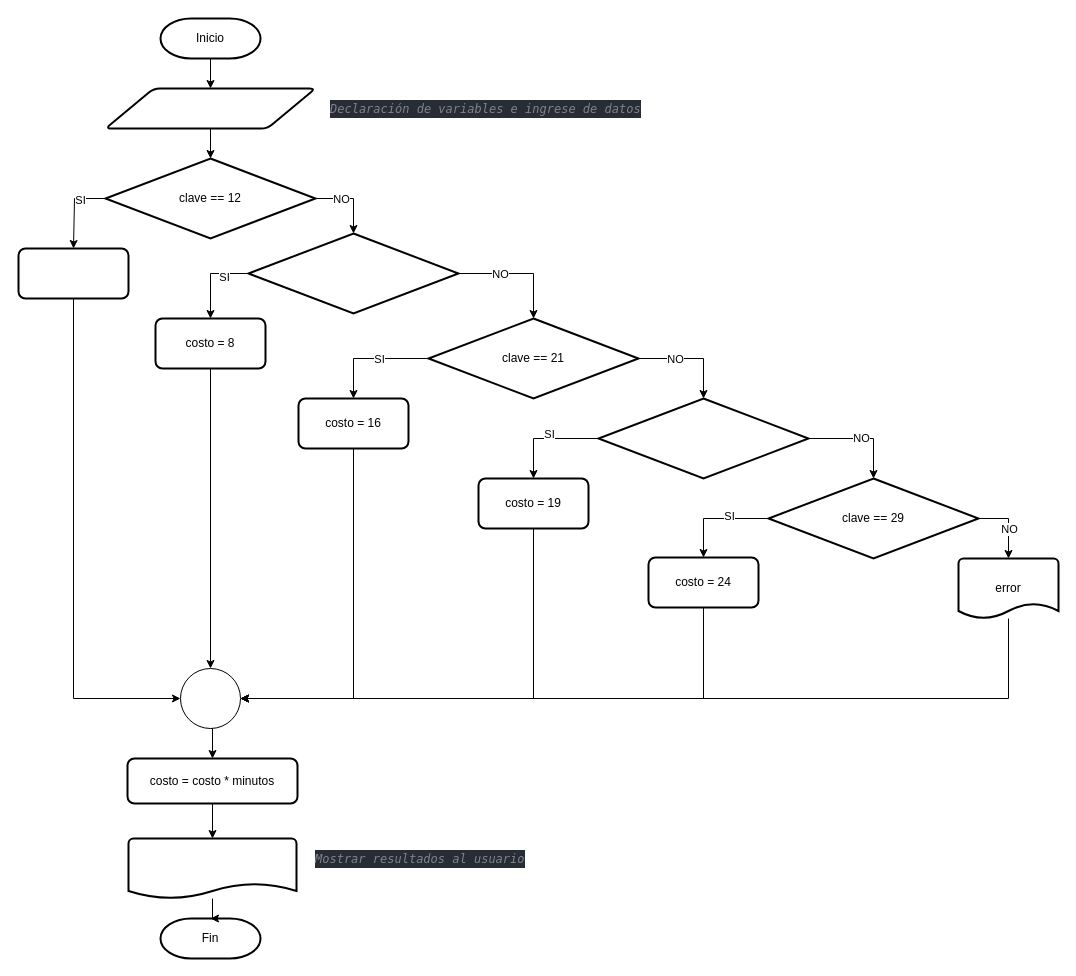
This 1076x976 diagram has some shape labels left out. Here are the shapes that lost their labels. From the top down, the box of each, then its label:
(104, 87, 316, 129): clave, número de minutos
(17, 247, 129, 299): costo = 10
(247, 232, 459, 314): clave == 15
(597, 397, 809, 479): clave == 23
(127, 837, 297, 899): costo
